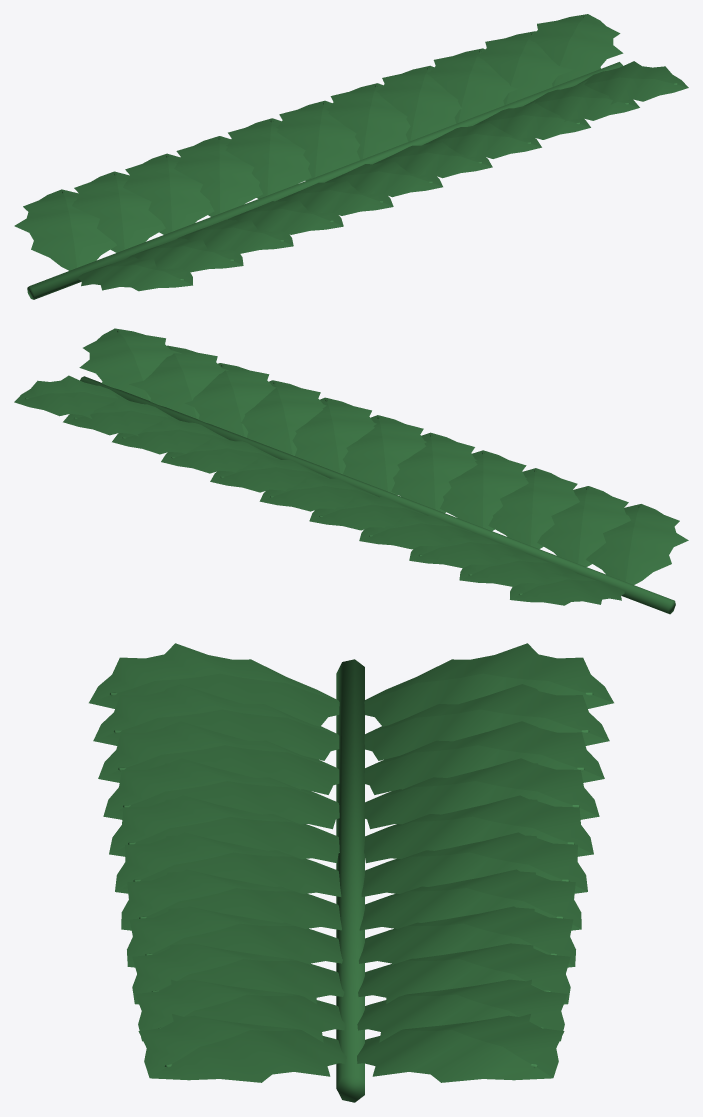
The model's file is Parsley.glb.
3 views of the same model, one above another, from view 1: azimuth 30°, elevation 25°; view 2: azimuth 150°, elevation 25°; view 3: azimuth 270°, elevation 25° (orthographic). The views are drawn at different scales.
Visible parts, largest first — view 1: Parsley; view 2: Parsley; view 3: Parsley.
Boxes of the visible parts, left/top/right/bottom form: Parsley: left=14, top=14, right=688, bottom=299; Parsley: left=14, top=328, right=688, bottom=614; Parsley: left=89, top=643, right=613, bottom=1102.
Size of what is drawn, in the model's own units: 0.1038 by 0.0171 by 0.0385.
